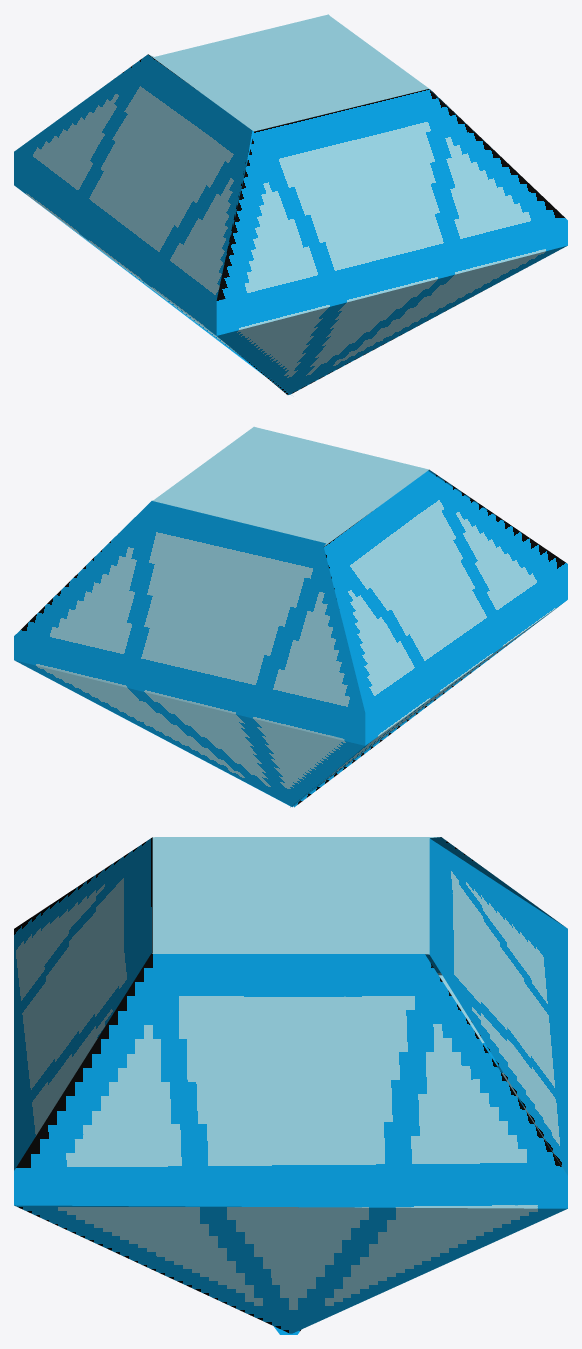
Rendered from Jewelry.gltf.
3 views of the same model, one above another, from view 1: azimuth 30°, elevation 25°; view 2: azimuth 150°, elevation 25°; view 3: azimuth 270°, elevation 25° (orthographic). The views are drawn at different scales.
Parts seen in each view (by area): view 1: 立方体; view 2: 立方体; view 3: 立方体.
Boxes of the visible parts, left/top/right/bottom form: 立方体: left=14, top=14, right=567, bottom=394; 立方体: left=14, top=426, right=567, bottom=807; 立方体: left=14, top=837, right=567, bottom=1334.
Size of the model in its own units: 2 by 1.75 by 2.
1 material, 1 textured.
